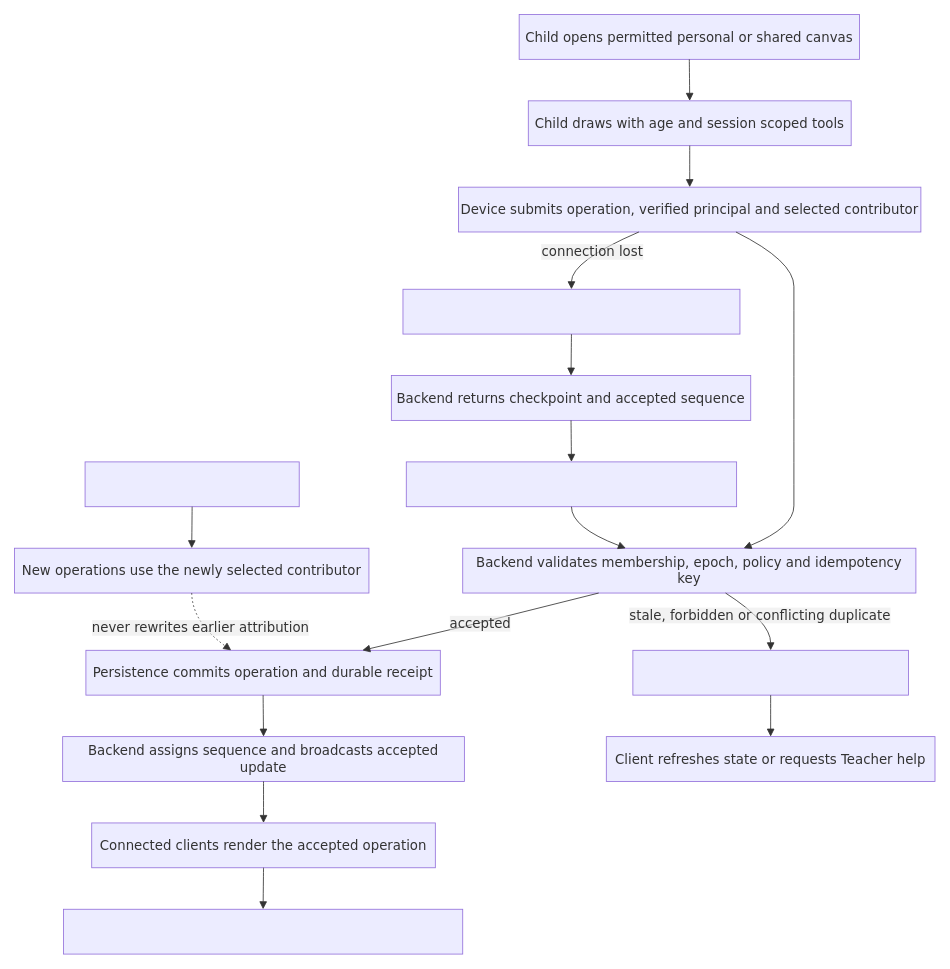
Some shapes in this 950 by 969 pixel diagram are drawn without their labels. Here are the shapes that lost their labels. From the top down, the centre of each, then its label:
(x=571, y=311): Client retains pending operation and reconnects
(x=191, y=484): Shared-device turn changes
(x=571, y=484): Client replays only unacknowledged operations
(x=770, y=672): Reject without changing saved canvas
(x=263, y=931): Teacher monitors group progress and may pause or resume
